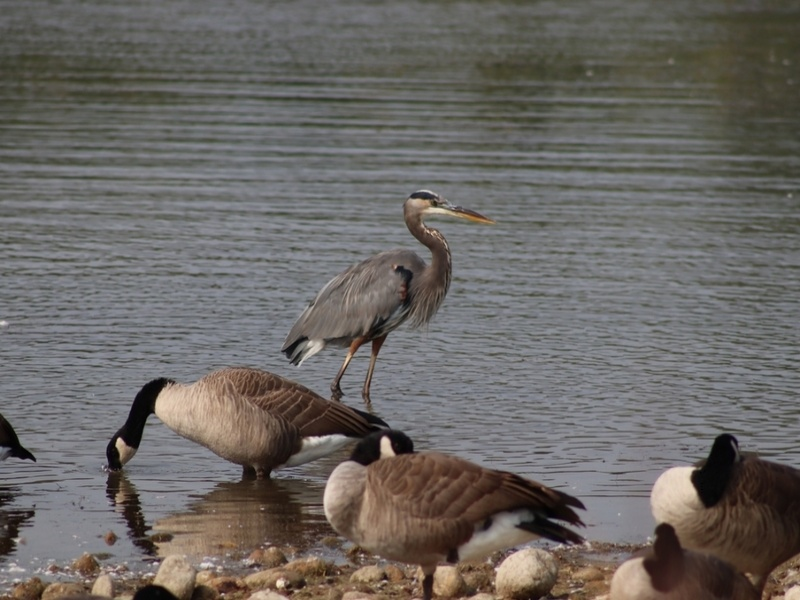heron: (283, 186, 498, 407)
